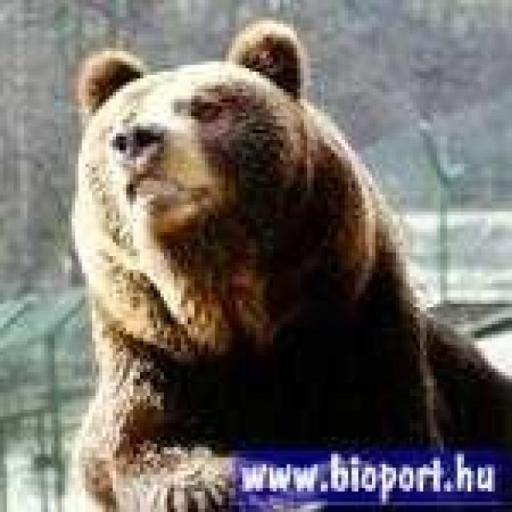Bear: (65, 17, 509, 509)
